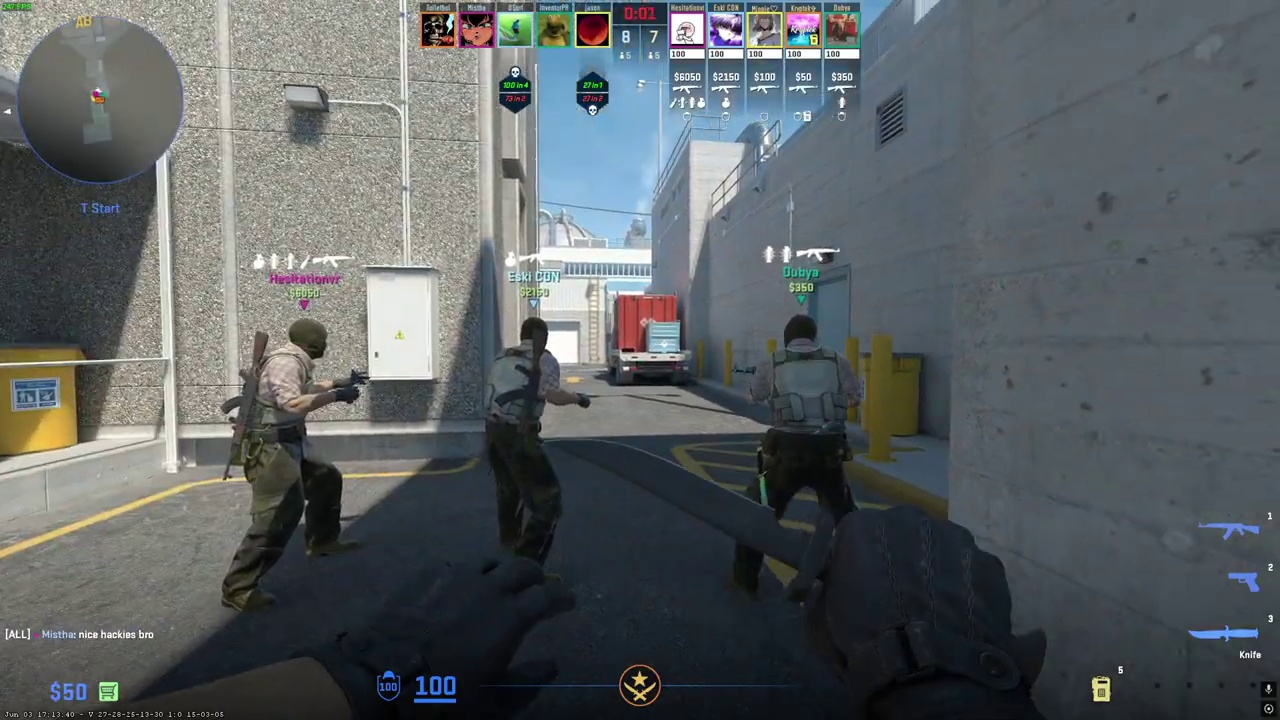Terrorist: (224, 317, 351, 614), (748, 313, 859, 540), (482, 316, 570, 587)
